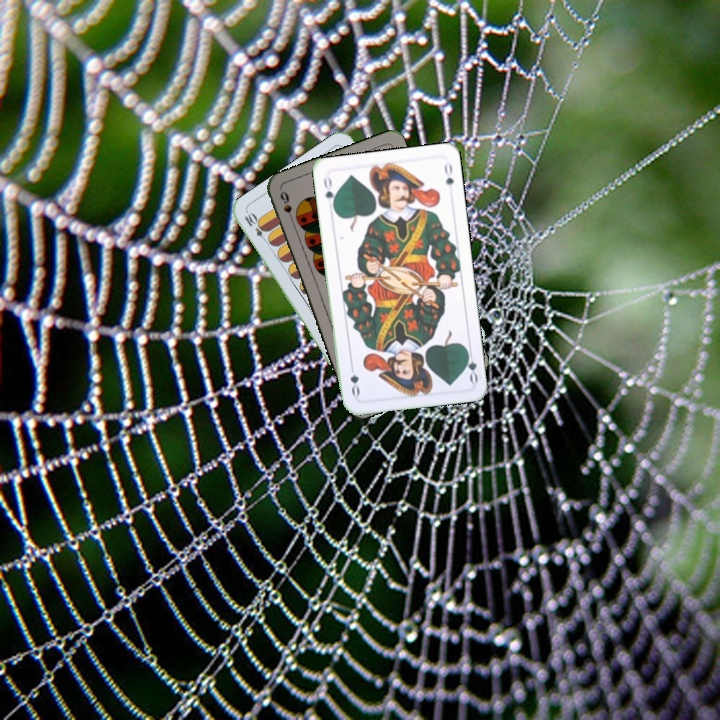E10: (240, 209, 271, 246)
GO: (461, 345, 480, 385), (320, 172, 338, 212)
S9: (276, 187, 297, 226)
